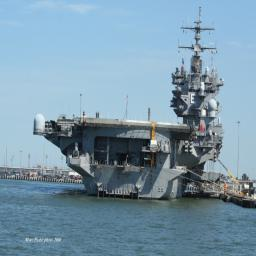Portanaves: (34, 4, 228, 201)
